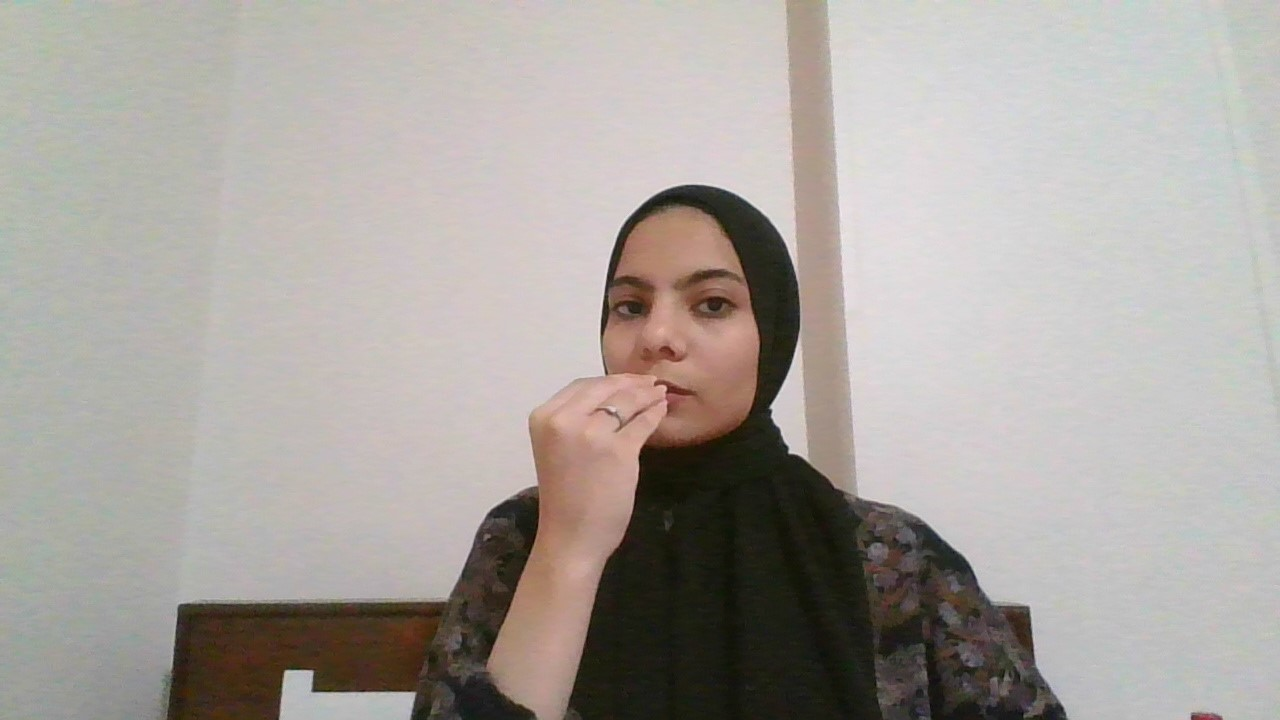eat: (518, 367, 667, 564)
